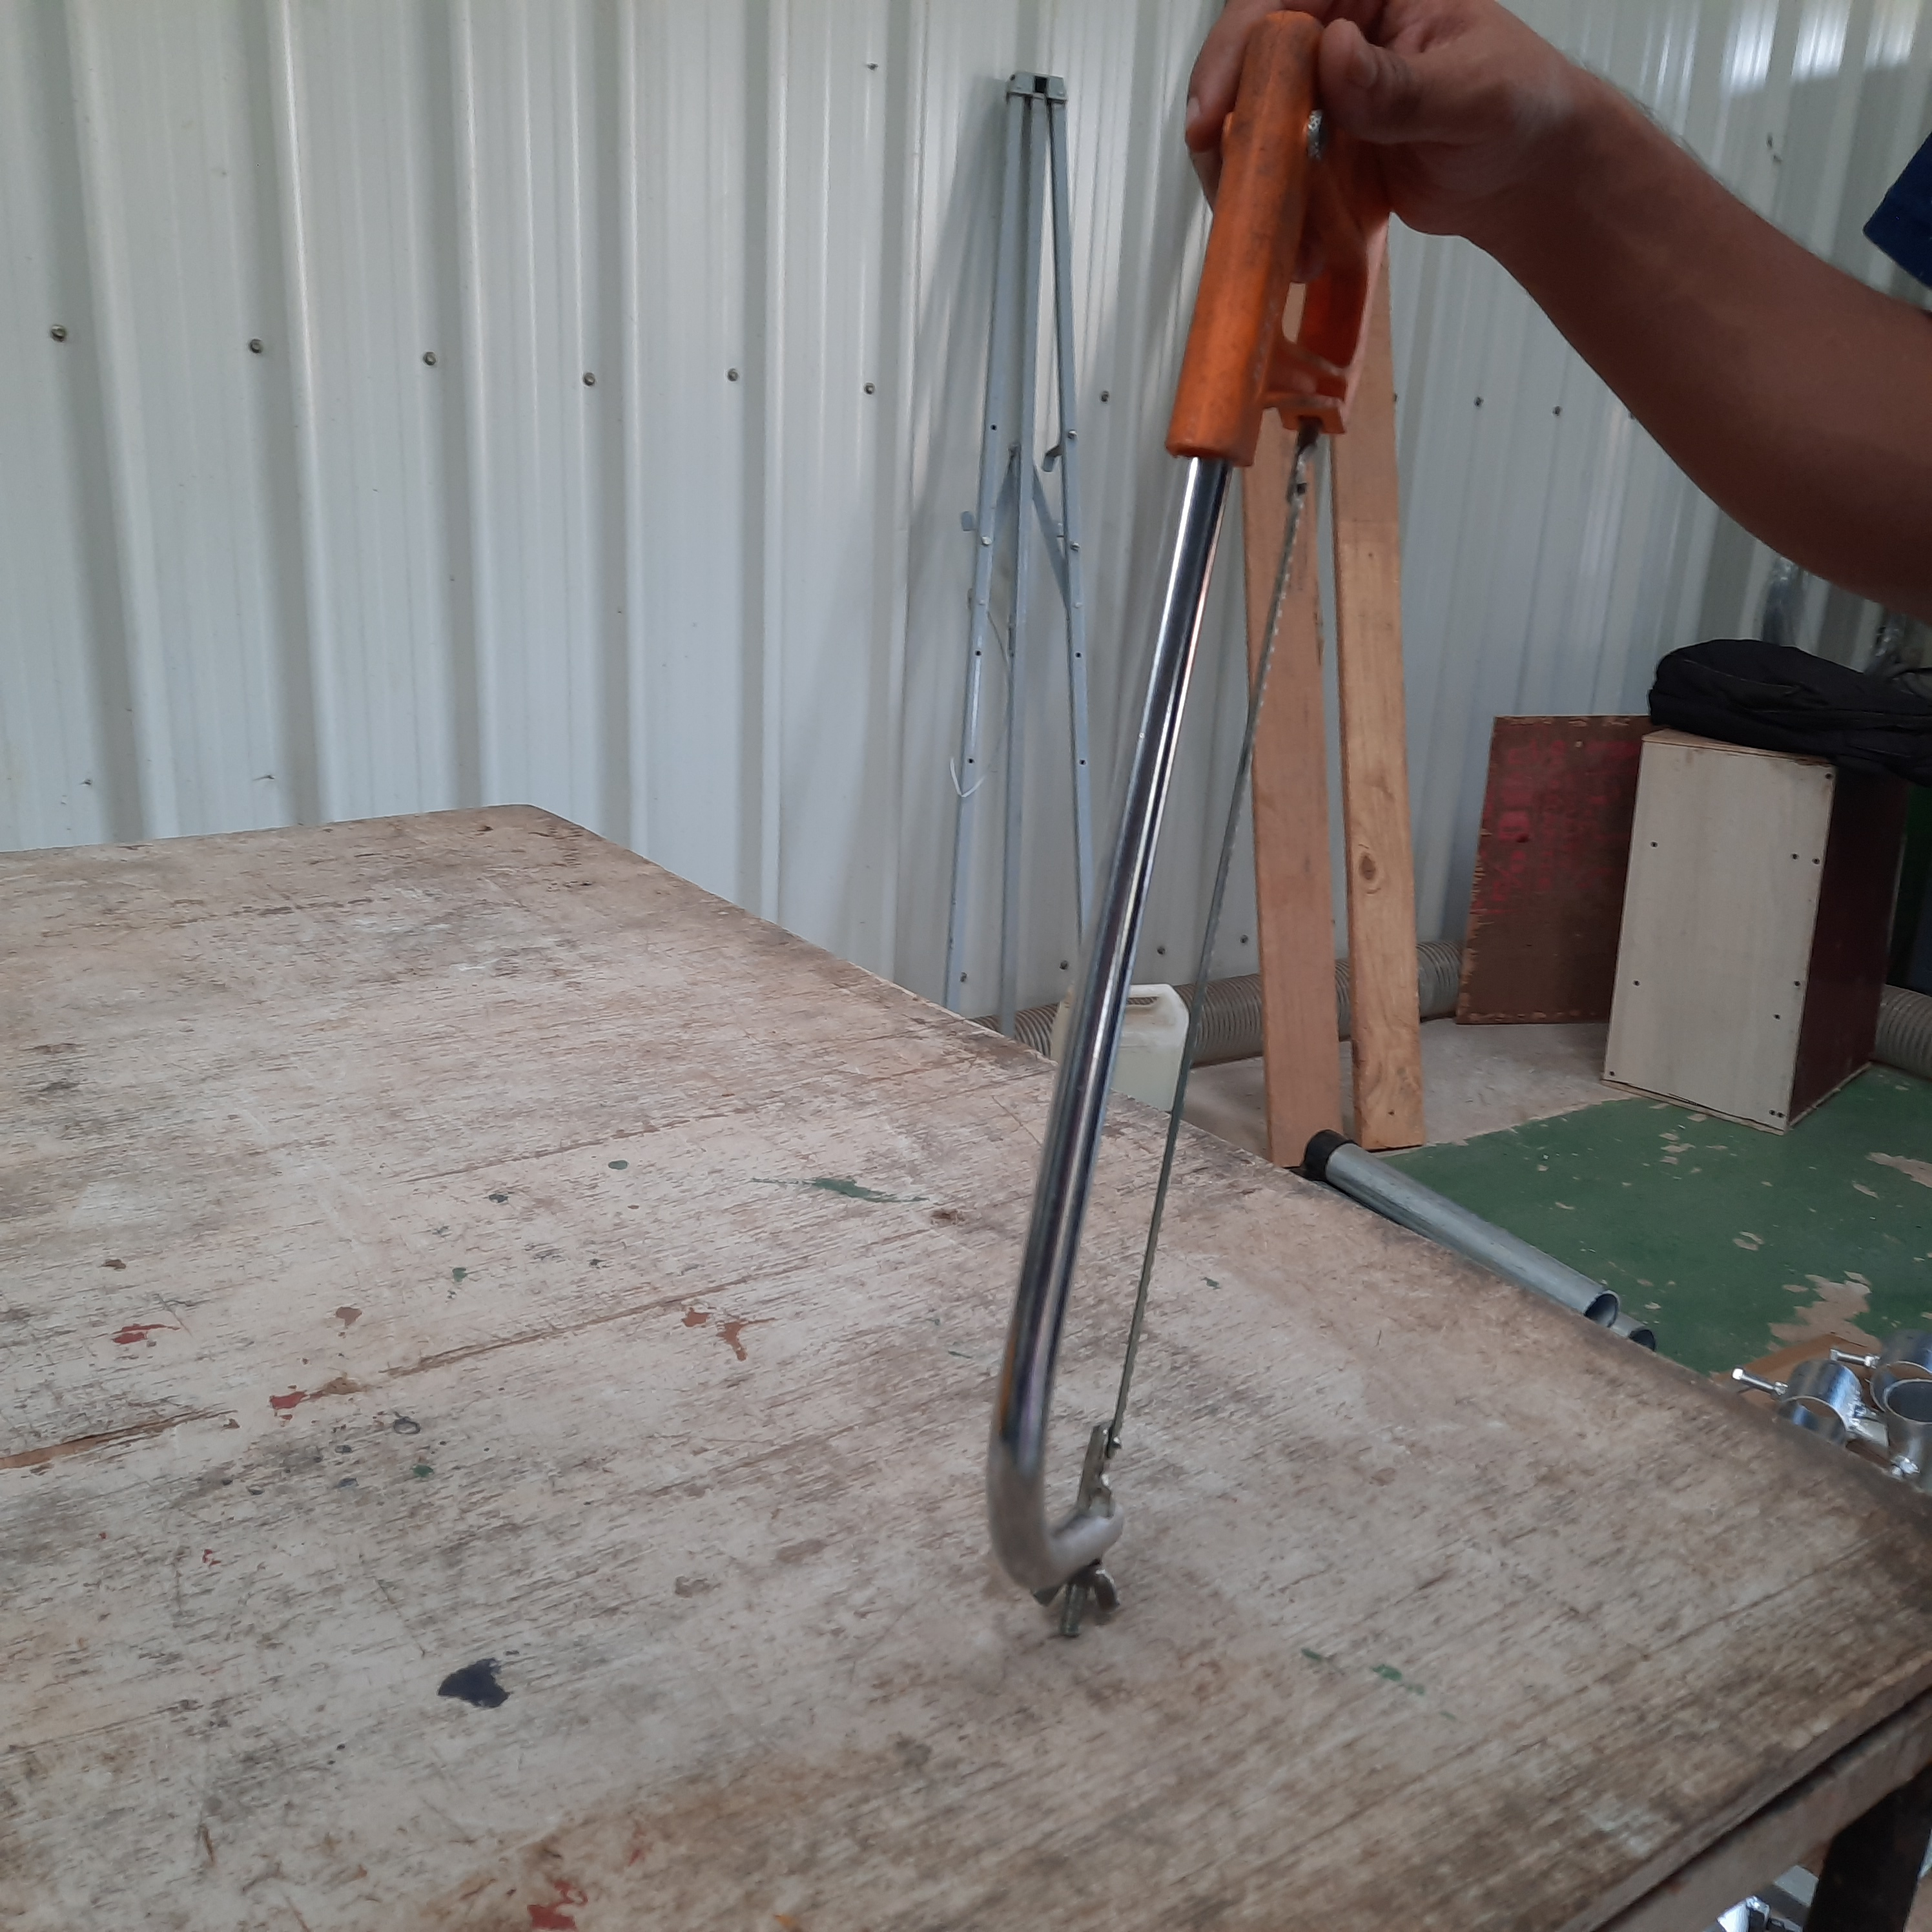Hexaframe: (941, 32, 1368, 1706)
